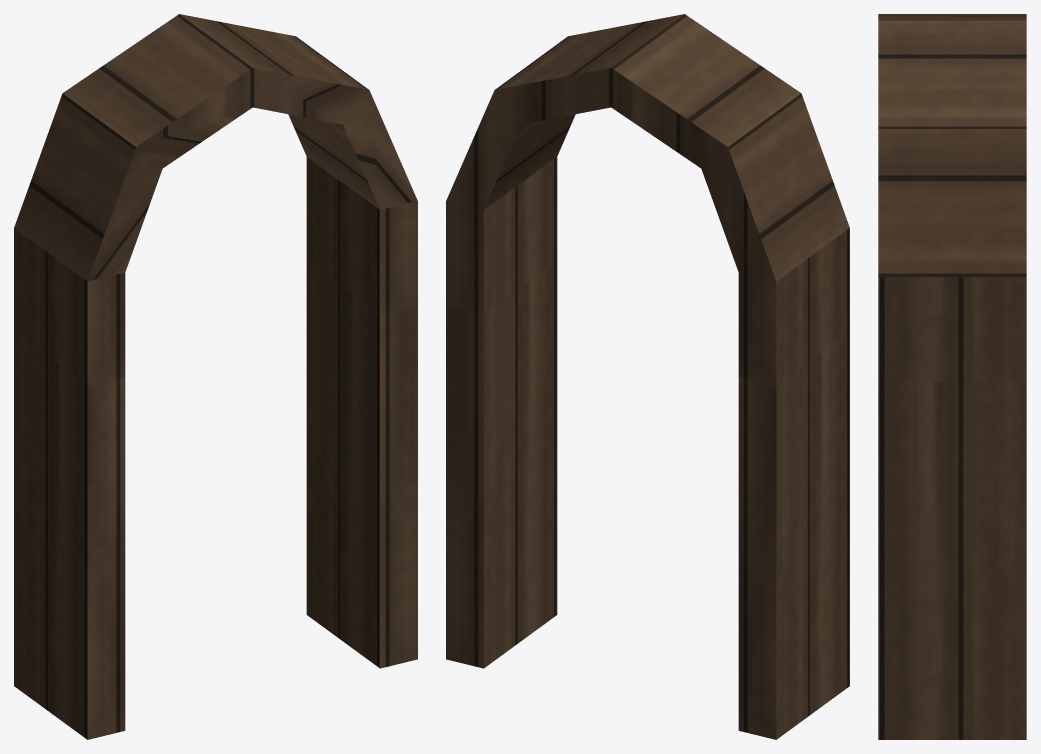
File: DoorFrame_Round_WoodDark_LOD2.gltf
3 renders of one model, left to right at view 1: azimuth 30°, elevation 25°; view 2: azimuth 150°, elevation 25°; view 3: azimuth 270°, elevation 25°, orthographic.
Parts seen in each view (by area): view 1: DoorFrame_Round_WoodDark_LOD2; view 2: DoorFrame_Round_WoodDark_LOD2; view 3: DoorFrame_Round_WoodDark_LOD2.
Part boxes in pixels (x1,y1,x2,y2): DoorFrame_Round_WoodDark_LOD2: (14,14,417,739); DoorFrame_Round_WoodDark_LOD2: (446,14,849,739); DoorFrame_Round_WoodDark_LOD2: (878,14,1026,739).
Bounding box in the file's own units: 1.4 × 2.56 × 0.54.
1 material, 1 textured.
